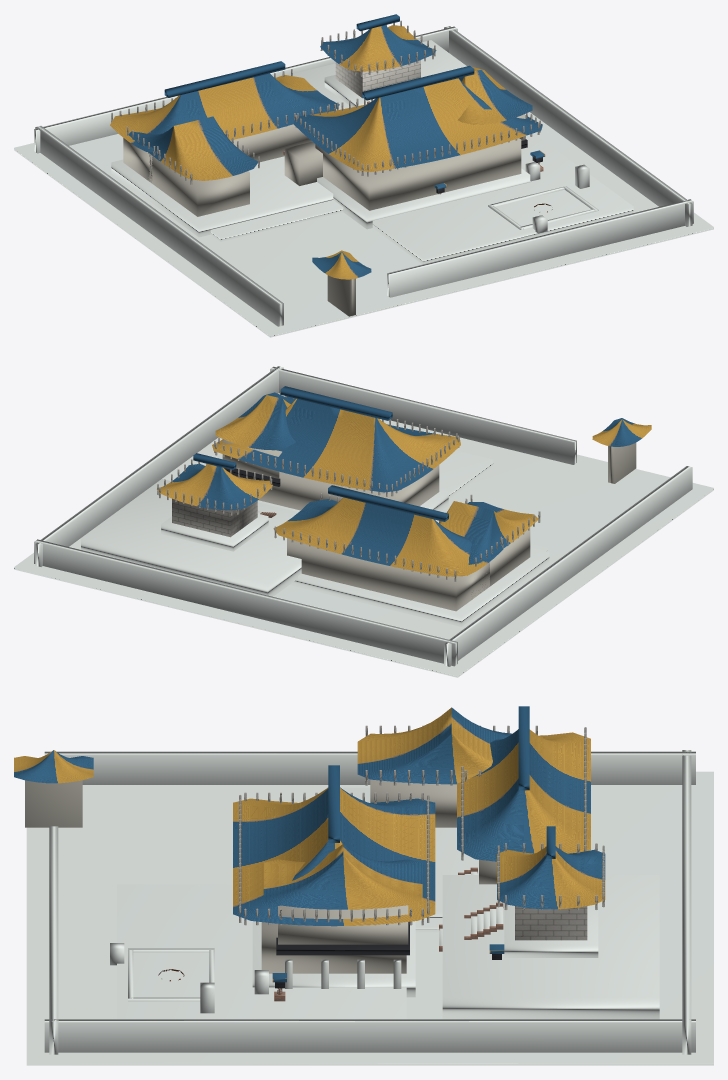
3 views of the same model, one above another, from view 1: azimuth 30°, elevation 25°; view 2: azimuth 150°, elevation 25°; view 3: azimuth 270°, elevation 25° (orthographic). The views are drawn at different scales.
Parts seen in each view (by area): view 1: baekinje_ground_and_courtyards, baekinje_traditional_garden_walls, baekinje_sarangchae_roof, baekinje_anchae_roof, baekinje_anchae_timbers, baekinje_sarangchae_timbers, baekinje_anchae_plinths, baekinje_byeoldang_roof, baekinje_sarangchae_plinths, baekinje_byeoldang_pavilion, baekinje_sarangchae_rafters, baekinje_garden_lanterns_and_gate (+2 smaller); view 2: baekinje_ground_and_courtyards, baekinje_traditional_garden_walls, baekinje_sarangchae_roof, baekinje_anchae_roof, baekinje_anchae_timbers, baekinje_byeoldang_roof, baekinje_anchae_plinths, baekinje_sarangchae_timbers, baekinje_byeoldang_pavilion, baekinje_sarangchae_rafters, baekinje_anchae_rafters, baekinje_garden_lanterns_and_gate (+2 smaller); view 3: baekinje_ground_and_courtyards, baekinje_traditional_garden_walls, baekinje_sarangchae_roof, baekinje_anchae_roof, baekinje_byeoldang_roof, baekinje_sarangchae_timbers, baekinje_byeoldang_pavilion, baekinje_sarangchae_plinths, baekinje_garden_lanterns_and_gate, baekinje_anchae_timbers, baekinje_anchae_plinths, baekinje_sarangchae_rafters (+2 smaller).
Boxes of the visible parts, left/top/right/bottom form: baekinje_ground_and_courtyards: left=14, top=40, right=713, bottom=337; baekinje_traditional_garden_walls: left=34, top=26, right=693, bottom=326; baekinje_sarangchae_roof: left=294, top=65, right=542, bottom=171; baekinje_anchae_roof: left=110, top=61, right=339, bottom=180; baekinje_anchae_timbers: left=123, top=124, right=322, bottom=216; baekinje_sarangchae_timbers: left=315, top=114, right=527, bottom=210; baekinje_anchae_plinths: left=111, top=156, right=333, bottom=237; baekinje_byeoldang_roof: left=312, top=14, right=436, bottom=279; baekinje_sarangchae_plinths: left=317, top=168, right=530, bottom=229; baekinje_byeoldang_pavilion: left=324, top=60, right=420, bottom=107; baekinje_sarangchae_rafters: left=295, top=98, right=540, bottom=176; baekinje_garden_lanterns_and_gate: left=327, top=275, right=355, bottom=316; baekinje_ground_and_courtyards: left=14, top=393, right=713, bottom=677; baekinje_traditional_garden_walls: left=34, top=366, right=692, bottom=666; baekinje_sarangchae_roof: left=212, top=386, right=460, bottom=492; baekinje_anchae_roof: left=273, top=485, right=538, bottom=576; baekinje_anchae_timbers: left=287, top=527, right=530, bottom=611; baekinje_byeoldang_roof: left=157, top=418, right=651, bottom=510; baekinje_anchae_plinths: left=290, top=547, right=549, bottom=626; baekinje_sarangchae_timbers: left=222, top=439, right=439, bottom=510; baekinje_byeoldang_pavilion: left=161, top=498, right=268, bottom=551; baekinje_sarangchae_rafters: left=214, top=392, right=459, bottom=496; baekinje_anchae_rafters: left=274, top=493, right=540, bottom=581; baekinje_garden_lanterns_and_gate: left=608, top=443, right=636, bottom=483; baekinje_ground_and_courtyards: left=26, top=771, right=713, bottom=1065; baekinje_traditional_garden_walls: left=44, top=750, right=695, bottom=1054; baekinje_sarangchae_roof: left=233, top=765, right=435, bottom=926; baekinje_anchae_roof: left=357, top=706, right=590, bottom=861; baekinje_byeoldang_roof: left=14, top=750, right=605, bottom=909; baekinje_sarangchae_timbers: left=261, top=905, right=409, bottom=973; baekinje_byeoldang_pavilion: left=504, top=903, right=598, bottom=957; baekinje_sarangchae_plinths: left=252, top=921, right=415, bottom=997; baekinje_garden_lanterns_and_gate: left=25, top=780, right=82, bottom=827; baekinje_anchae_timbers: left=370, top=779, right=496, bottom=884; baekinje_anchae_plinths: left=343, top=787, right=478, bottom=917; baekinje_sarangchae_rafters: left=239, top=792, right=429, bottom=925.
Size of the model in its own units: 38 by 8.94 by 38.7.
4 materials, 4 textured.
